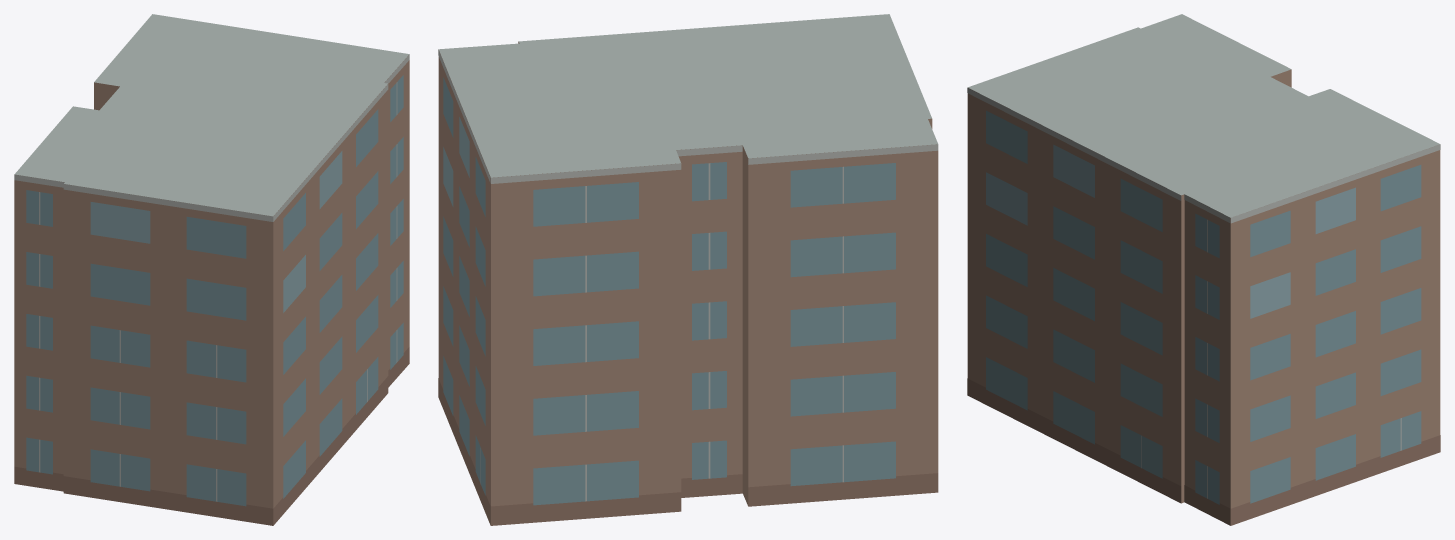
Rendered from survey-upis-32969360.glb.
3 renders of one model, left to right at view 1: azimuth 30°, elevation 25°; view 2: azimuth 150°, elevation 25°; view 3: azimuth 270°, elevation 25°, orthographic. The views are drawn at different scales.
Visible parts, largest first — view 1: survey-upis-32969360.tmp; view 2: survey-upis-32969360.tmp; view 3: survey-upis-32969360.tmp.
Part boxes in pixels (left/top/right/bottom): survey-upis-32969360.tmp: left=14, top=14, right=409, bottom=525; survey-upis-32969360.tmp: left=438, top=14, right=938, bottom=525; survey-upis-32969360.tmp: left=967, top=14, right=1440, bottom=525.
Size of the model in its own units: 18.74 by 13.2 by 18.38.
